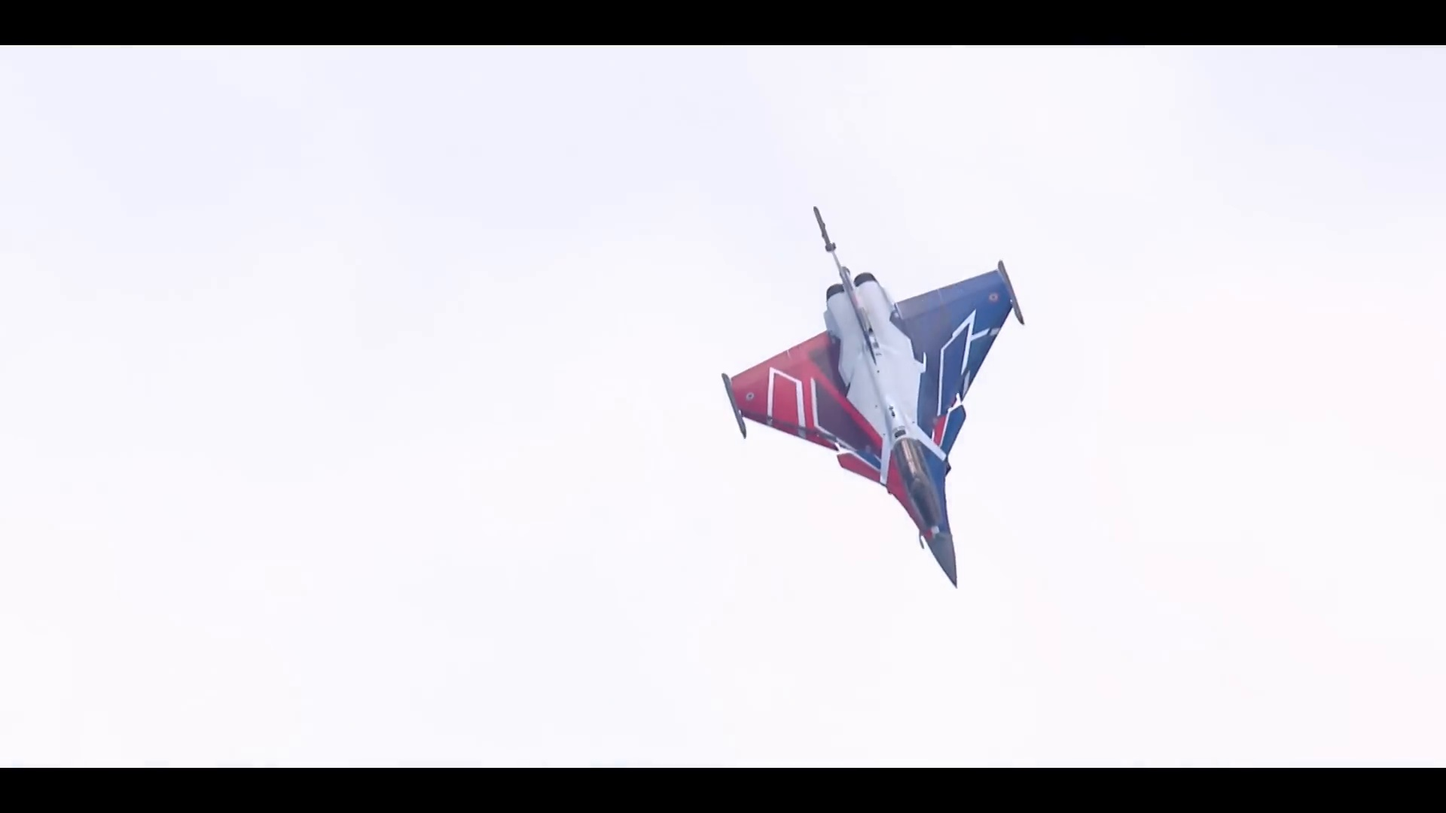Rafale: (717, 199, 1031, 592)
